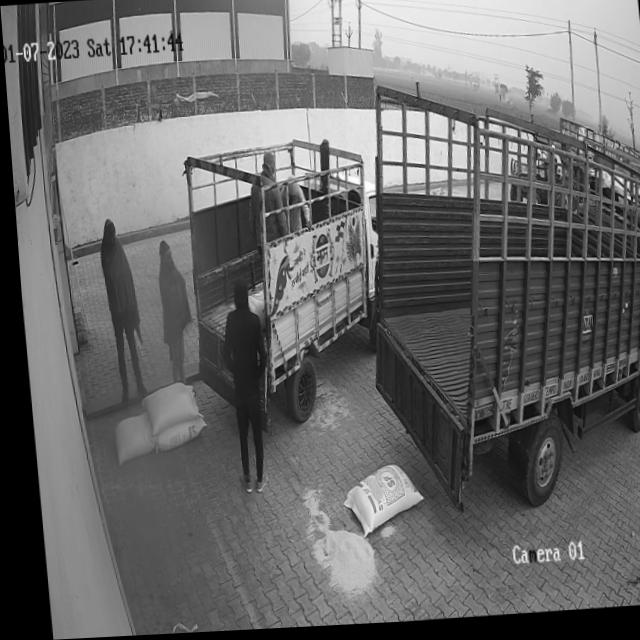sack: (332, 466, 417, 541), (134, 382, 194, 435), (105, 413, 148, 466), (147, 417, 200, 452)
